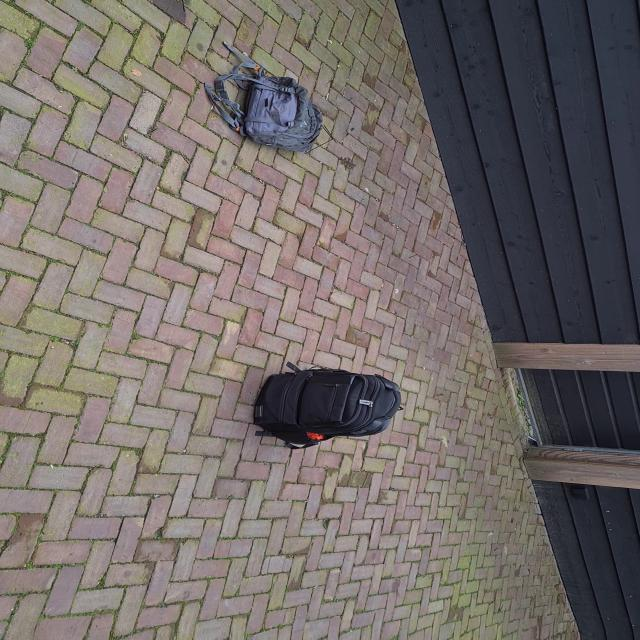backpack: (244, 363, 408, 445), (200, 67, 331, 153)
